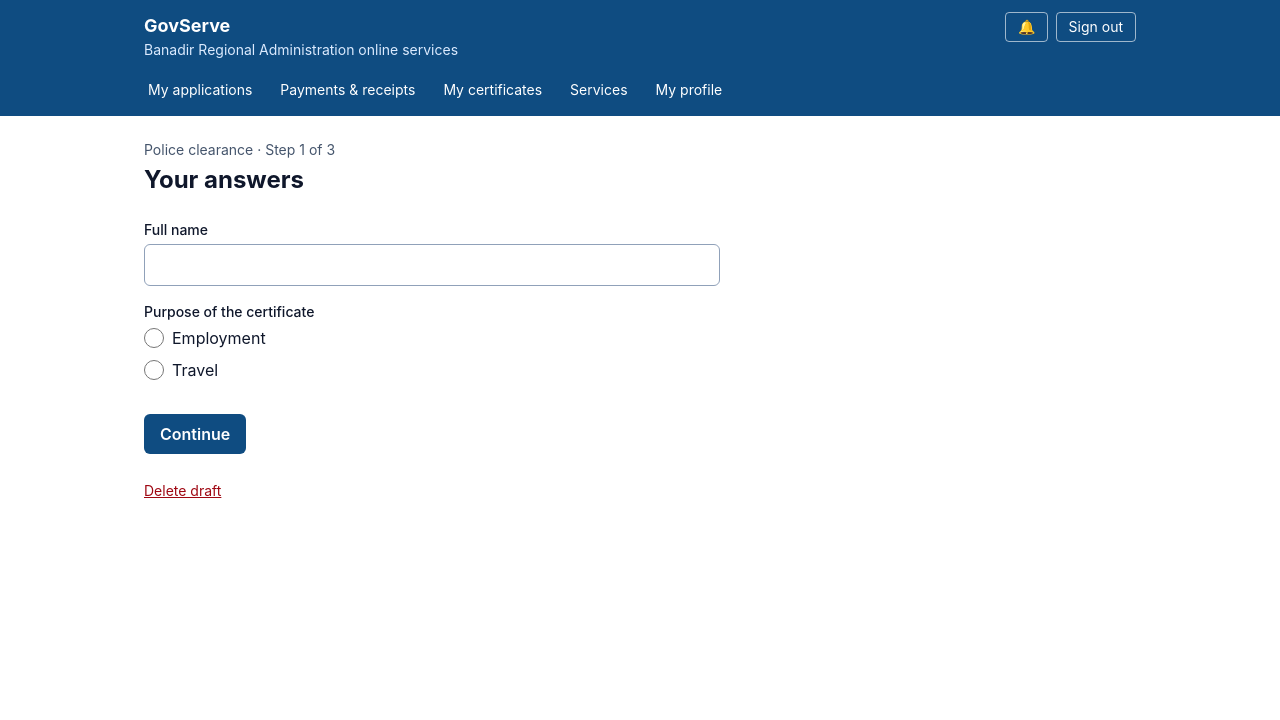
application wizard › should block the step until its answers are valid
The image size is (1280, 720).
Step 1. Click the button "Continue" → (195,434), box [144,414,246,454]
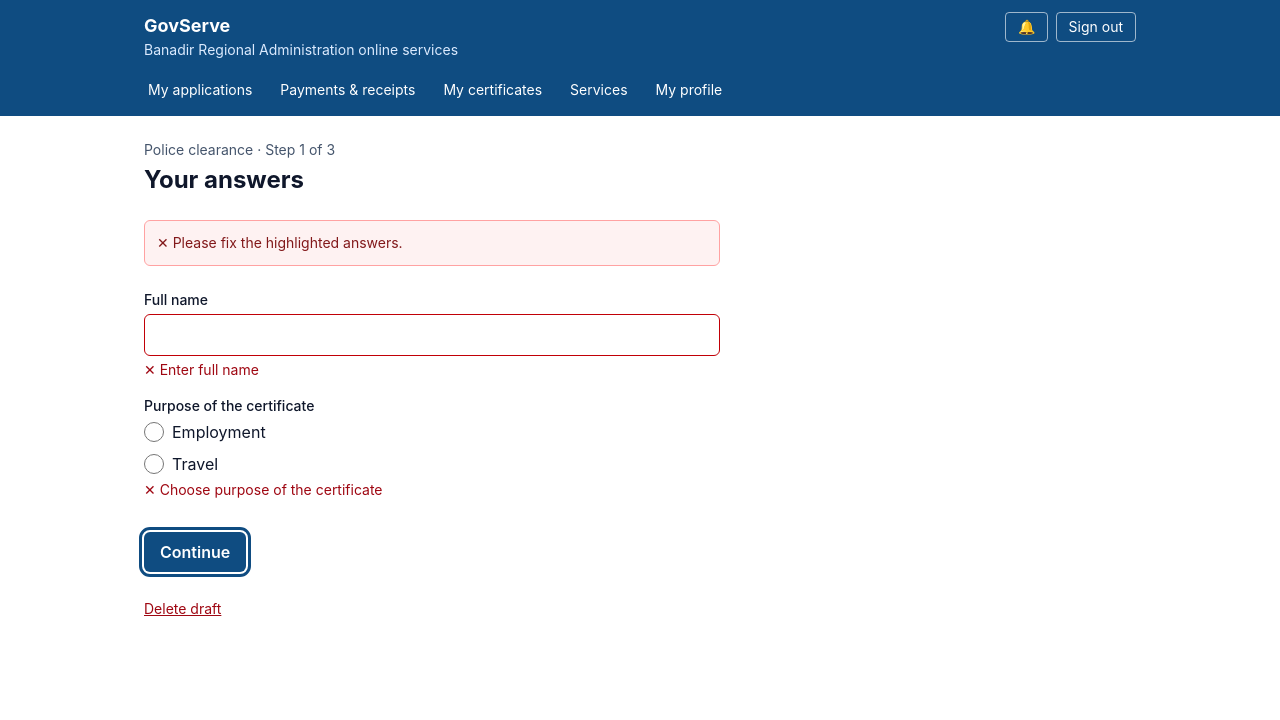
expect the text "Please fix the highlighted answers." is shown: met, box [173,234,403,251]
expect the text "Enter full name" is shown: met, box [160,361,259,378]
